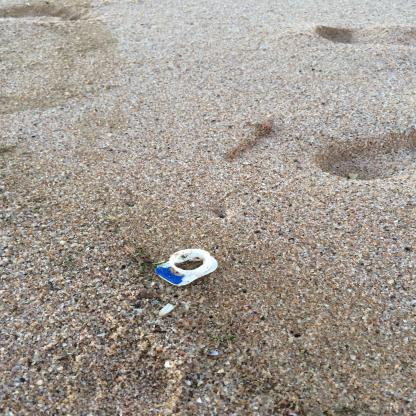trash: (140, 245, 233, 288)
